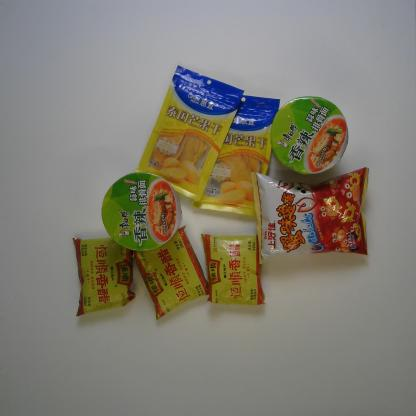Dried Fruit: (135, 64, 246, 203), (192, 94, 280, 217)
Instant Noodles: (101, 171, 182, 252), (269, 96, 350, 176)
Puffed Food: (250, 166, 370, 264)
Seasoner: (134, 224, 212, 321), (72, 235, 137, 317), (201, 233, 267, 306)
